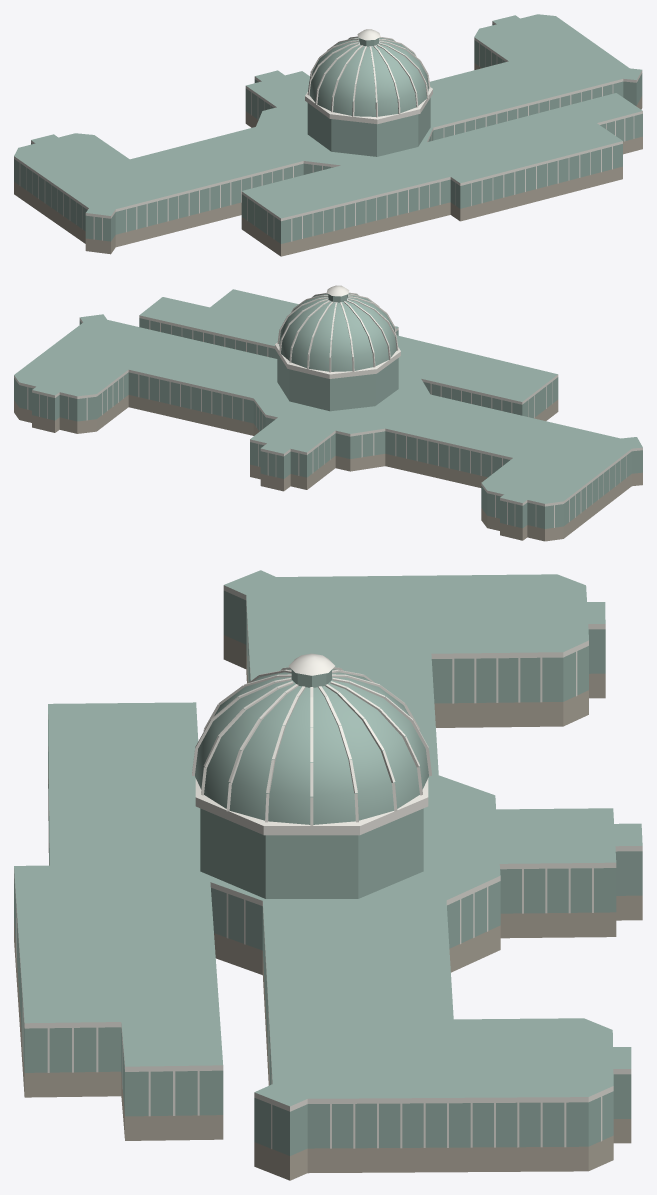
Rendered from conservatory-of-flowers.glb.
3 views of the same model, one above another, from view 1: azimuth 30°, elevation 25°; view 2: azimuth 150°, elevation 25°; view 3: azimuth 270°, elevation 25° (orthographic). The views are drawn at different scales.
Visible parts, largest first — view 1: glasshouse; view 2: glasshouse; view 3: glasshouse.
Part boxes in pixels (box(x1,y1,x2,y2)): glasshouse: box(14, 14, 642, 256); glasshouse: box(14, 285, 642, 541); glasshouse: box(14, 570, 642, 1180).
Size of the model in its own units: 75.64 by 17.72 by 37.49.
